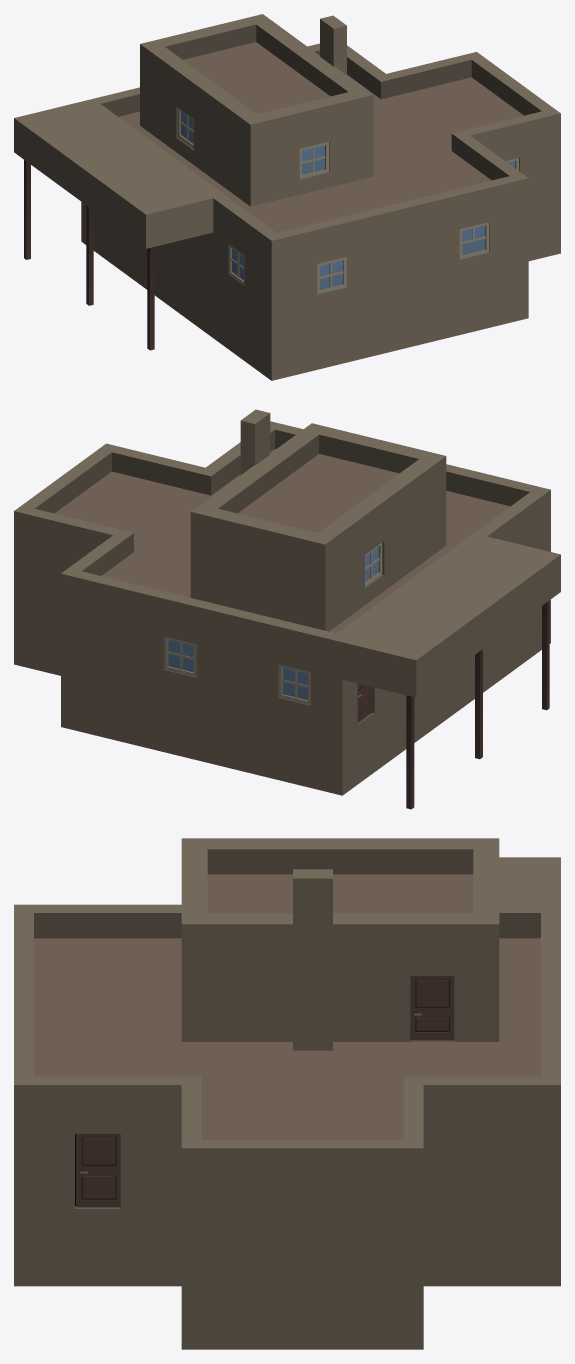
File: buildings-residential-adobehouse_v1.glb
3 views of the same model, one above another, from view 1: azimuth 30°, elevation 25°; view 2: azimuth 150°, elevation 25°; view 3: azimuth 270°, elevation 25° (orthographic). The views are drawn at different scales.
Visible parts, largest first — view 1: AdobeHouse_v1_base, AdobeHouse_v1_windowRefl; view 2: AdobeHouse_v1_base, AdobeHouse_v1_windowRefl; view 3: AdobeHouse_v1_base.
Boxes of the visible parts, x1,y1,x2,y2 form: AdobeHouse_v1_base: [14, 14, 560, 380]; AdobeHouse_v1_windowRefl: [181, 112, 515, 289]; AdobeHouse_v1_base: [14, 409, 560, 809]; AdobeHouse_v1_windowRefl: [168, 547, 378, 699]; AdobeHouse_v1_base: [14, 838, 560, 1349].
Bounding box in the file's own units: 27.71 × 15.46 × 22.01.
